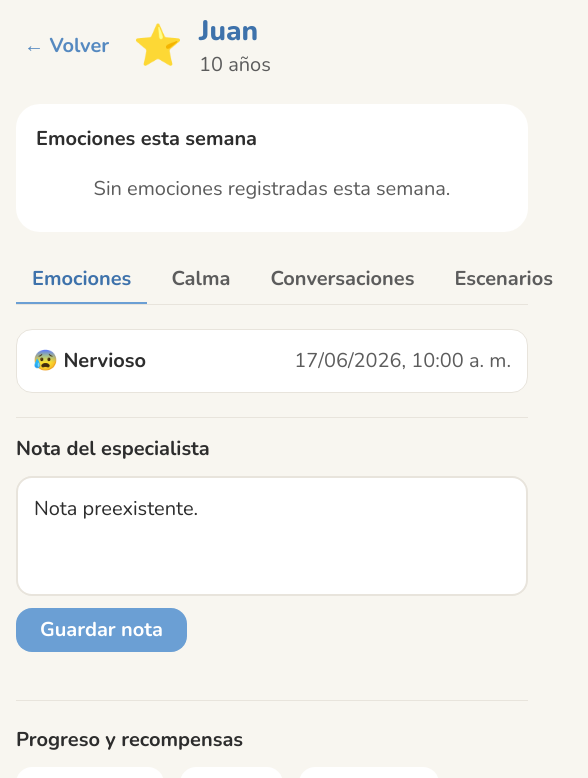
Test: ChildDetail › tab Escenarios muestra escenarios completados con emoji, título y fecha
The width and height of the screenshot is (588, 778).
Click the button "Escenarios" at (504, 280), box [438, 256, 569, 304]
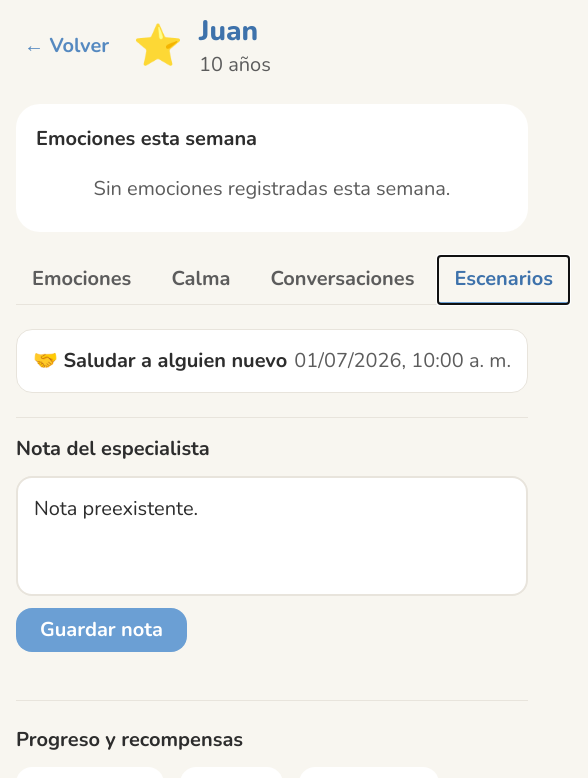
Check: the text "🤝 Saludar a alguien nuevo" is shown, box [33, 346, 287, 376]
Check: the text "01/07/2026, 10:00 a. m." is shown, box [294, 346, 511, 376]
